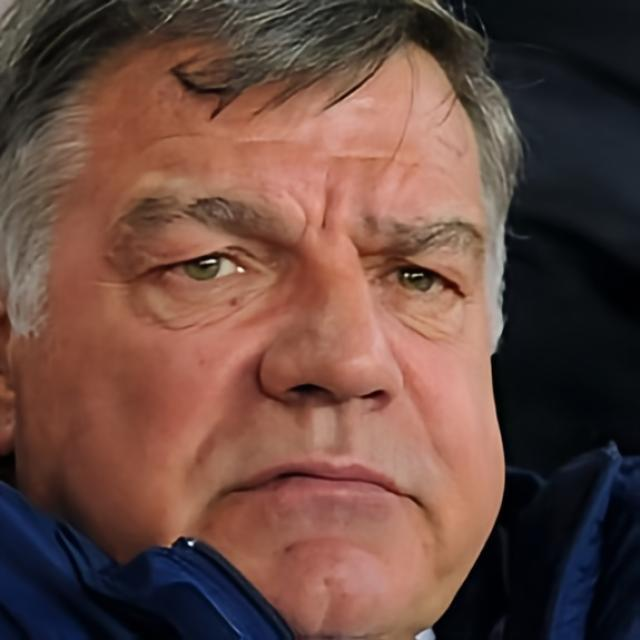anger: (45, 33, 502, 622)
